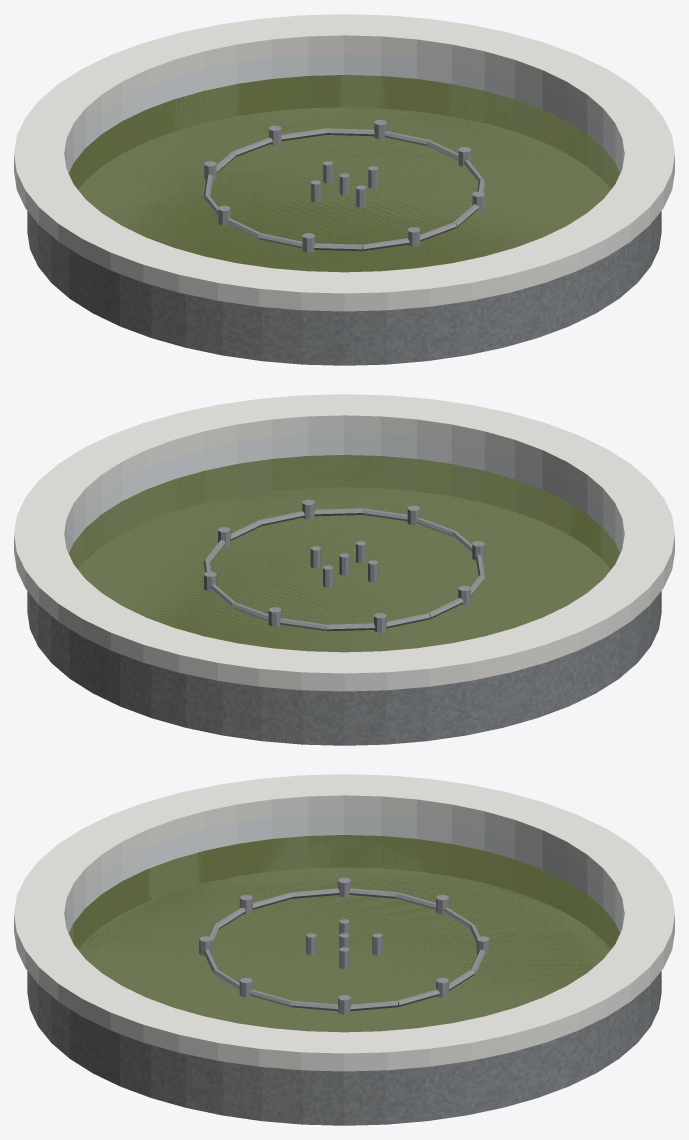
File: FOUNTAIN.glb
The picture shows the model from 3 angles, top to bottom: view 1: azimuth 30°, elevation 25°; view 2: azimuth 150°, elevation 25°; view 3: azimuth 270°, elevation 25°; orthographic projection.
Visible parts, largest first — view 1: FOUNTAIN; view 2: FOUNTAIN; view 3: FOUNTAIN.
Part boxes in pixels (x1=…): FOUNTAIN: x1=14, y1=14, x2=674, y2=365; FOUNTAIN: x1=14, y1=394, x2=674, y2=745; FOUNTAIN: x1=14, y1=774, x2=674, y2=1125.
Size of the model in its own units: 5 by 0.65 by 5.
Materials: 5 (1 with a texture image).
